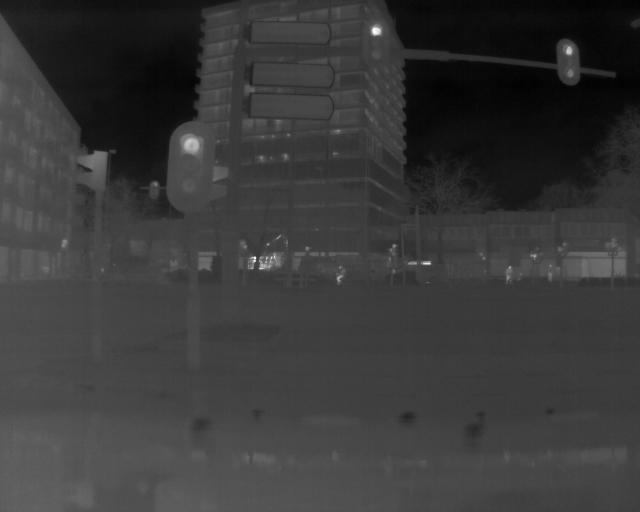person: (334, 263, 345, 284), (504, 262, 513, 285), (546, 261, 554, 284)
